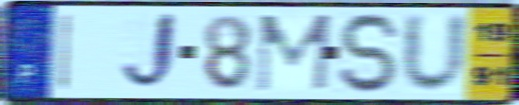8: (202, 13, 254, 92)
I: (55, 11, 75, 93)
J: (117, 10, 180, 95)
M: (253, 11, 334, 94)
S: (336, 10, 405, 96)
U: (399, 10, 470, 97)
